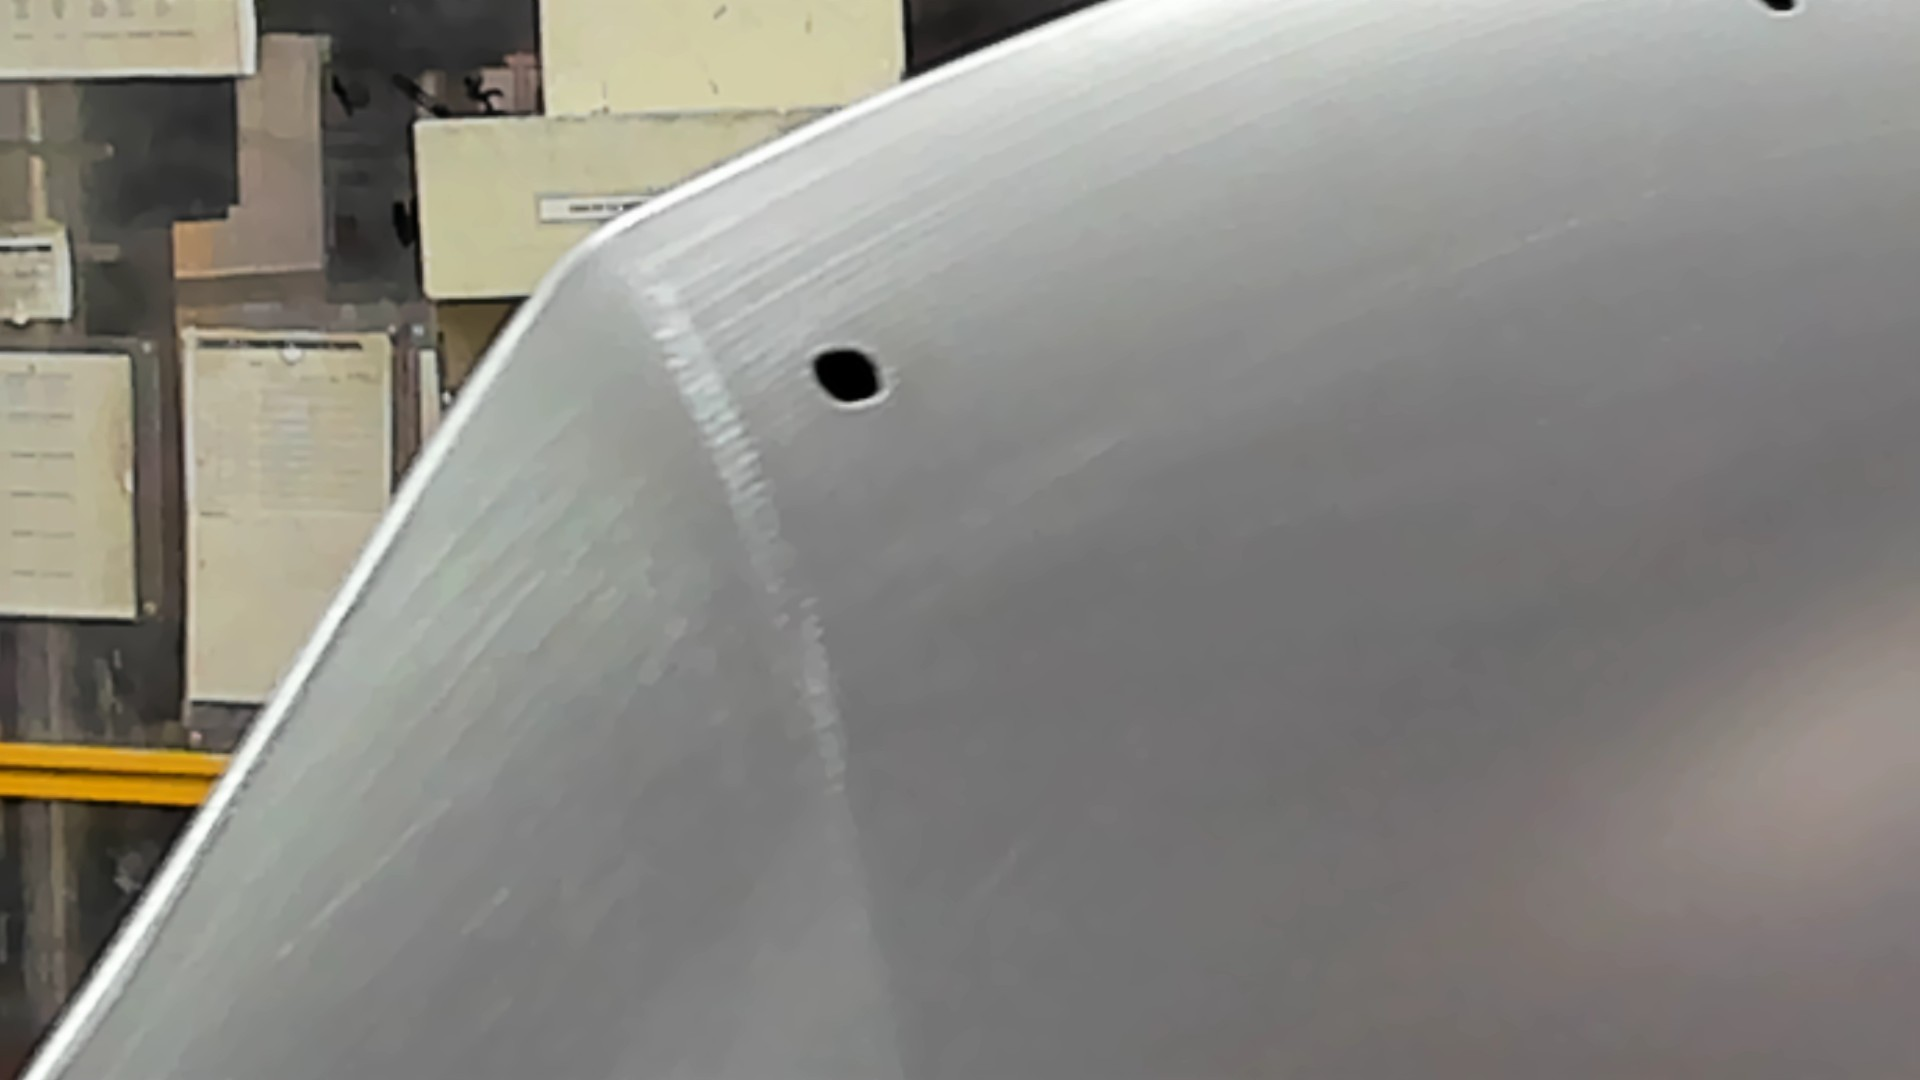amorfo: (804, 342, 898, 411)
capo: (981, 83, 1920, 1080)
